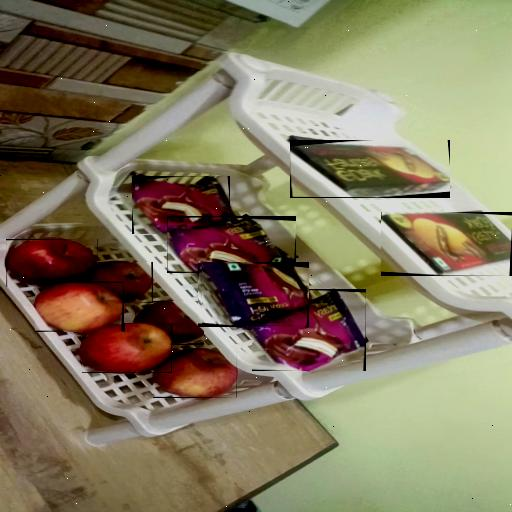Apple: (82, 323, 171, 373), (6, 239, 98, 287), (35, 283, 124, 331), (153, 348, 237, 398), (135, 301, 204, 345), (88, 262, 153, 303)
Choco Fills: (290, 140, 450, 198), (381, 212, 512, 276)
Choco Pie: (252, 289, 366, 371), (167, 216, 296, 273), (202, 262, 308, 326), (132, 176, 230, 234)
